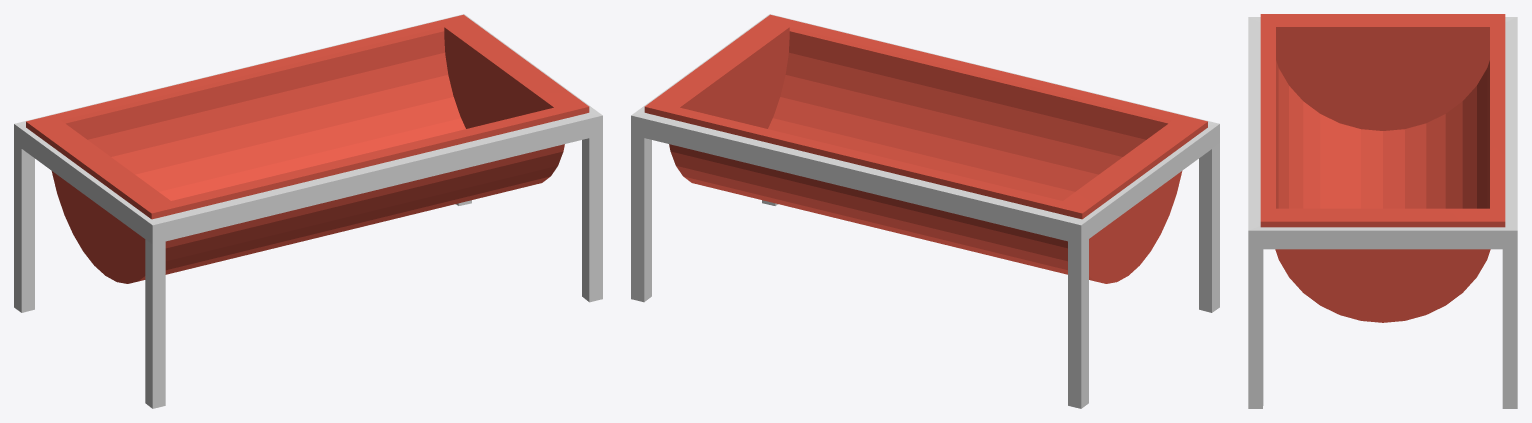
Rendered from BebederoColor.fbx.
3 renders of one model, left to right at view 1: azimuth 30°, elevation 25°; view 2: azimuth 150°, elevation 25°; view 3: azimuth 270°, elevation 25°, orthographic. The views are drawn at different scales.
Visible parts, largest first — view 1: Cylinder.011, Cube; view 2: Cylinder.011, Cube; view 3: Cylinder.011, Cube.
Boxes of the visible parts, <box> form: Cylinder.011: <box>26,14,589,283</box>; Cube: <box>14,14,602,408</box>; Cylinder.011: <box>644,14,1207,283</box>; Cube: <box>631,14,1219,408</box>; Cylinder.011: <box>1260,14,1505,322</box>; Cube: <box>1248,17,1517,408</box>.
Size of the model in its own units: 1.38 by 0.5569 by 0.739.
